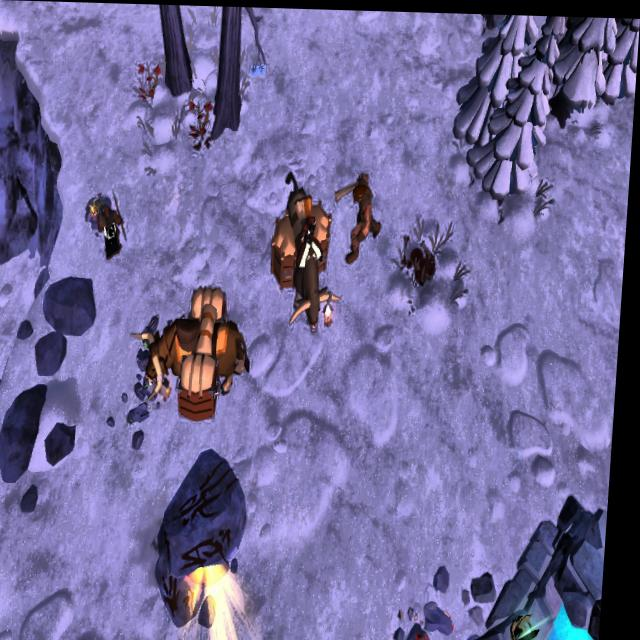enemy_factionKeeper: (335, 171, 389, 262)
